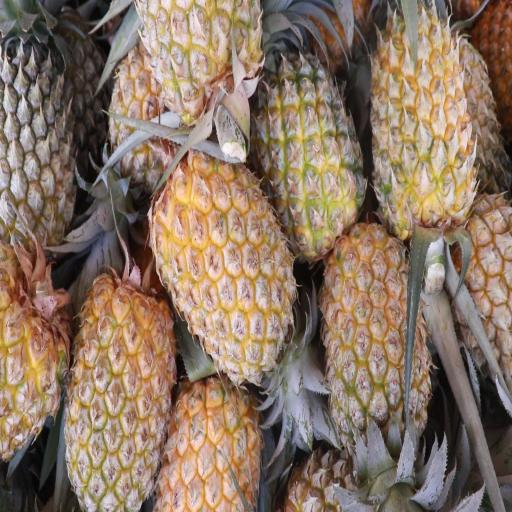------------------------------: (246, 48, 366, 272), (136, 2, 270, 174)
Pineapple - v8 v1: (148, 144, 298, 398), (316, 216, 434, 508), (368, 5, 480, 266), (63, 260, 175, 512), (0, 244, 78, 473), (158, 355, 260, 512), (447, 185, 512, 405)
